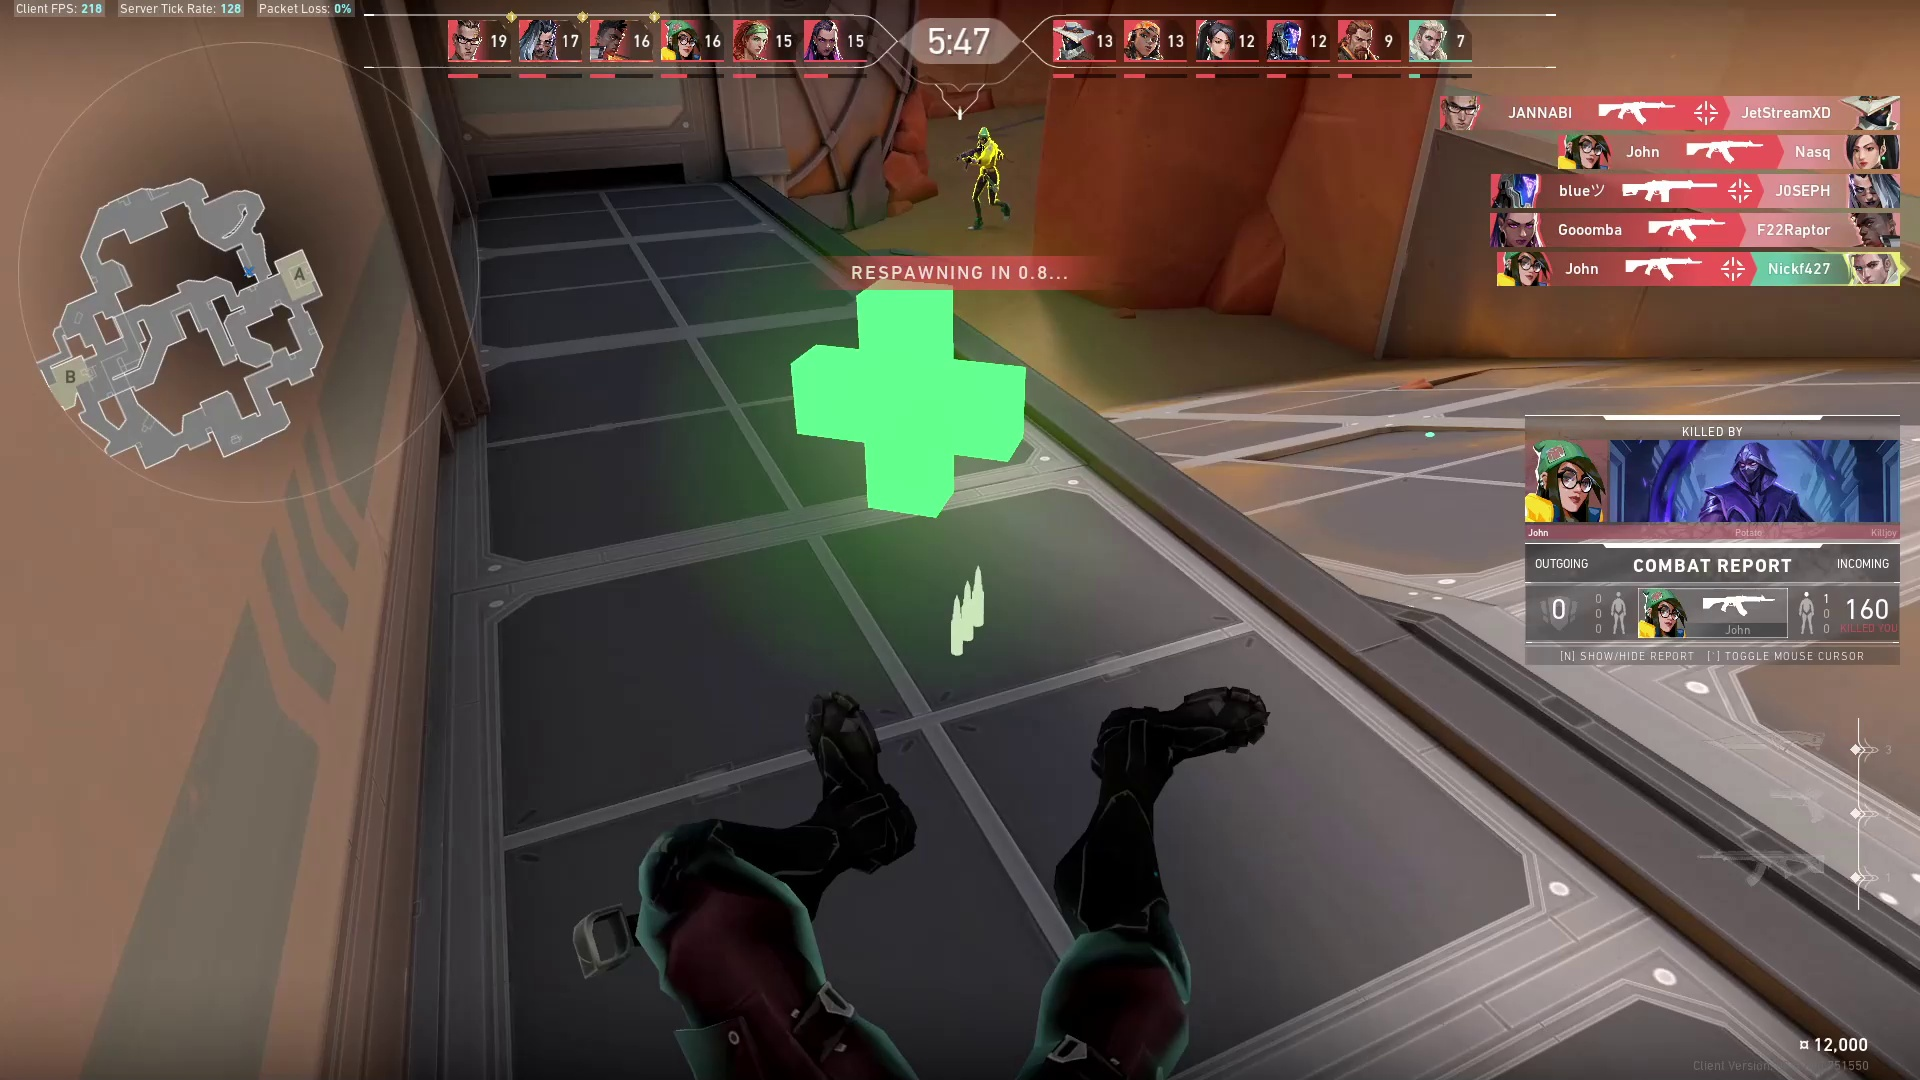enemy_body: (957, 145, 1014, 233)
enemy_head: (975, 124, 991, 145)
